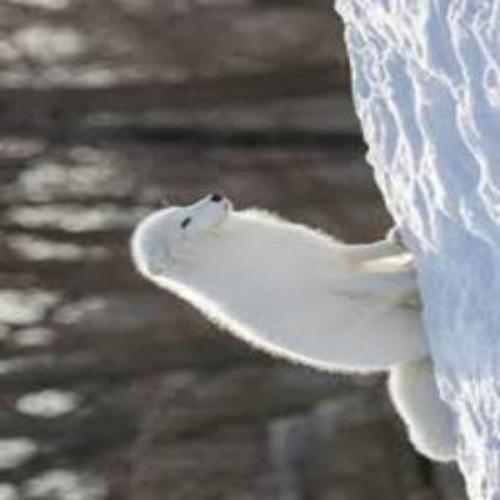arctic_fox-endangered: (131, 193, 462, 463)
